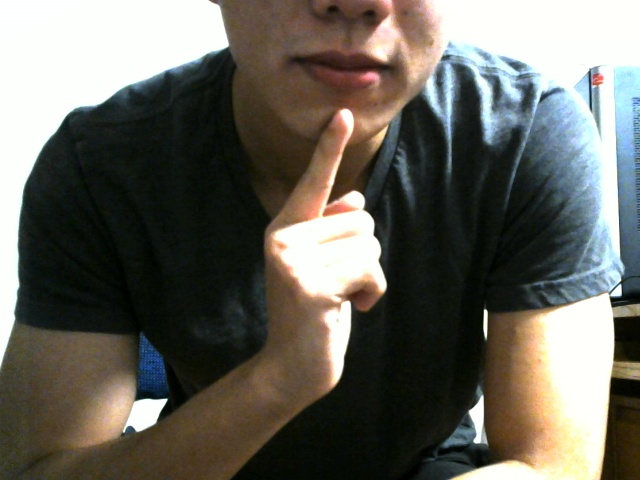deaf: (218, 101, 442, 420)
